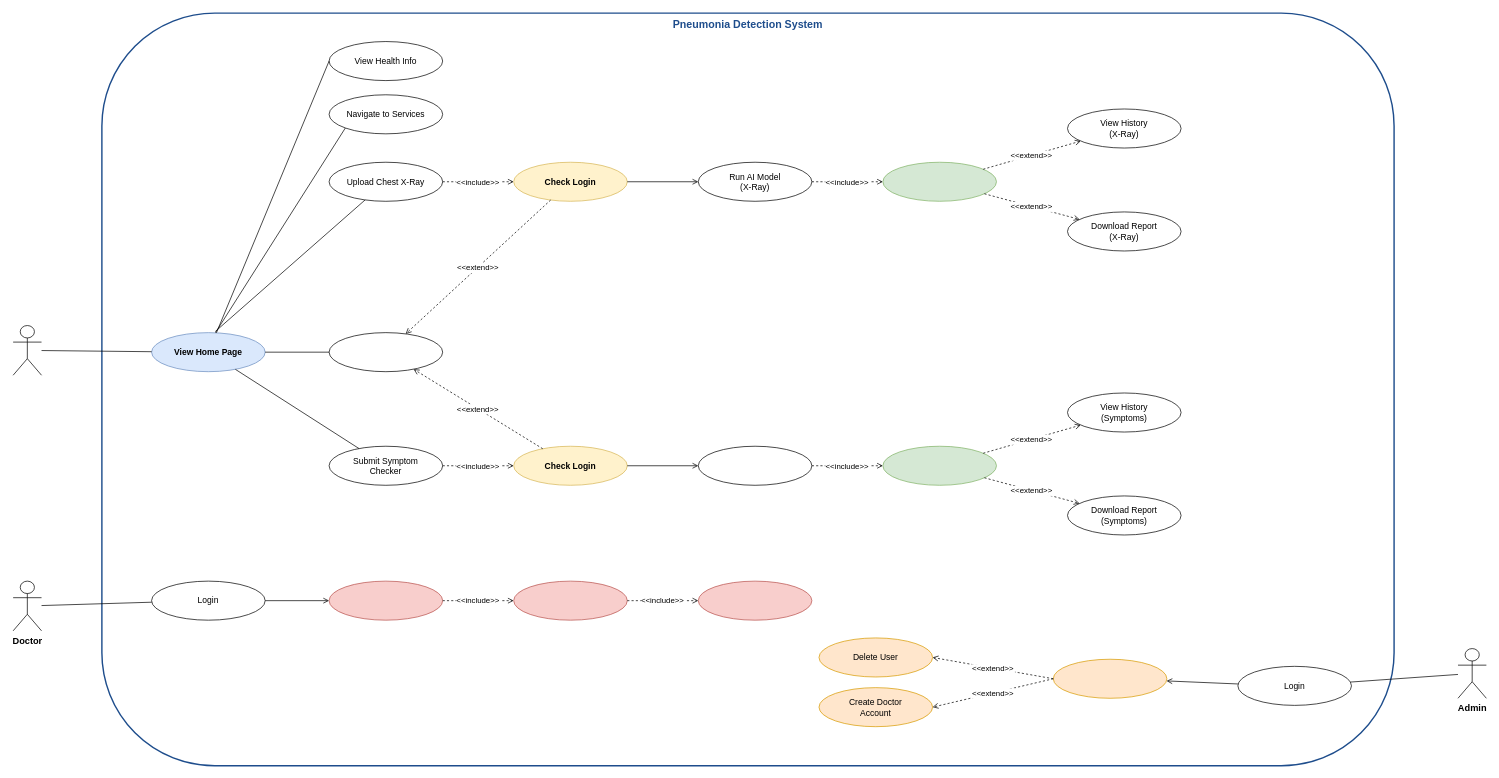
This 1499x778 diagram has some shape labels left out. The box of each missing label's shape, as (x1, y1, x2, y2) in pixels:
Login / Register: (328, 332, 443, 372)
Manage Users: (1053, 659, 1167, 698)
Run AI Model (Symptoms): (698, 446, 812, 485)
User: (12, 325, 42, 375)
View Patient History: (513, 580, 627, 620)
View Patient Report: (698, 580, 812, 620)
View Patients List: (328, 580, 443, 620)
View Result (Symptoms): (882, 446, 996, 485)
View Result (X-Ray): (882, 162, 996, 201)
